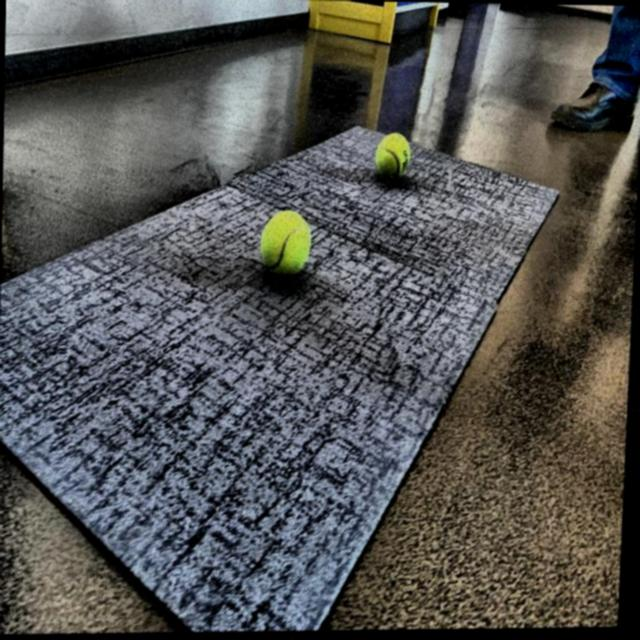tennis-ball: (255, 204, 318, 288), (372, 132, 417, 189)
